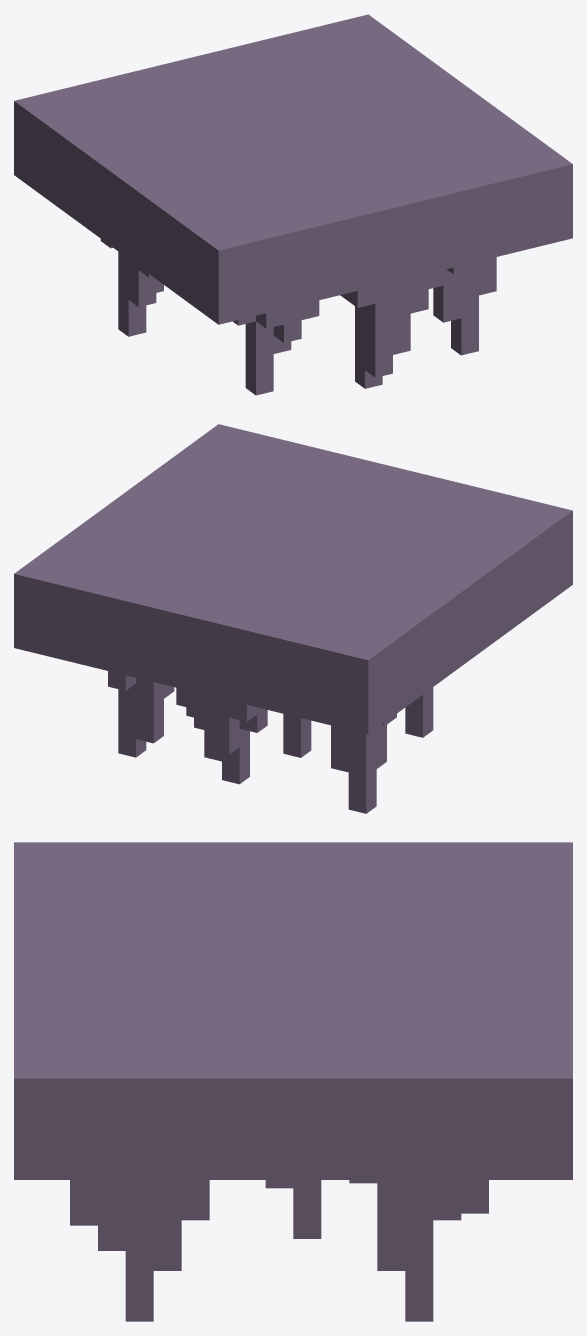
The model's file is Floors-0.obj.
3 renders of one model, top to bottom at view 1: azimuth 30°, elevation 25°; view 2: azimuth 150°, elevation 25°; view 3: azimuth 270°, elevation 25°, orthographic. The views are drawn at different scales.
Size of the model in its own units: 2 by 1.1 by 2.
1 material, 1 textured.
